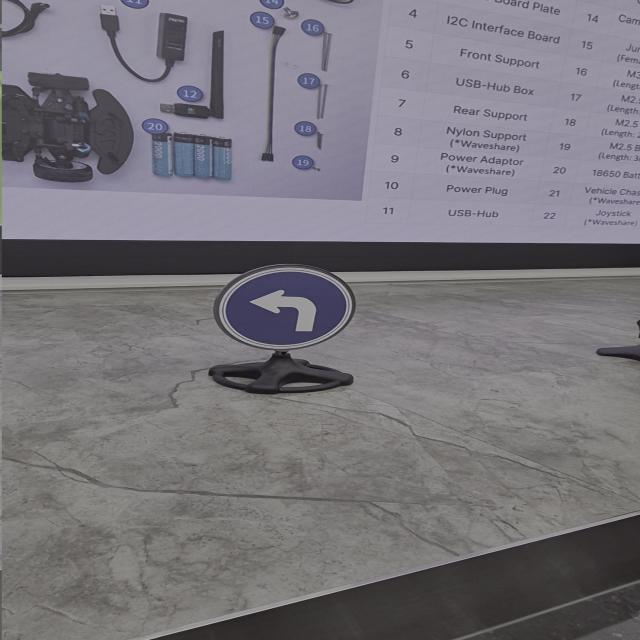left_direction: (209, 268, 358, 354)
